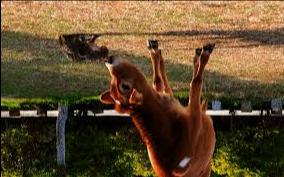Non_Gorille: (50, 26, 231, 174)
